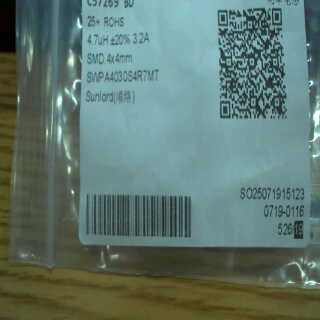4.7uH: (85, 34, 110, 47)
